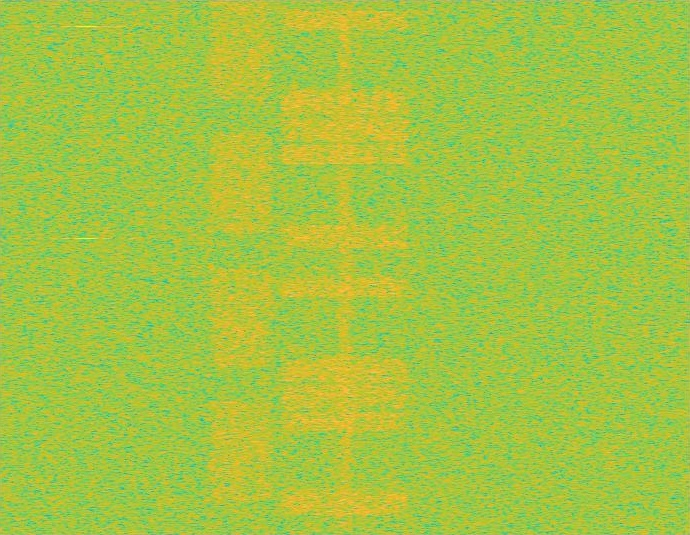5G: (207, 0, 276, 534)
DSSS: (336, 0, 354, 534)
LTE: (276, 0, 414, 534)
Radar: (80, 0, 93, 534)
